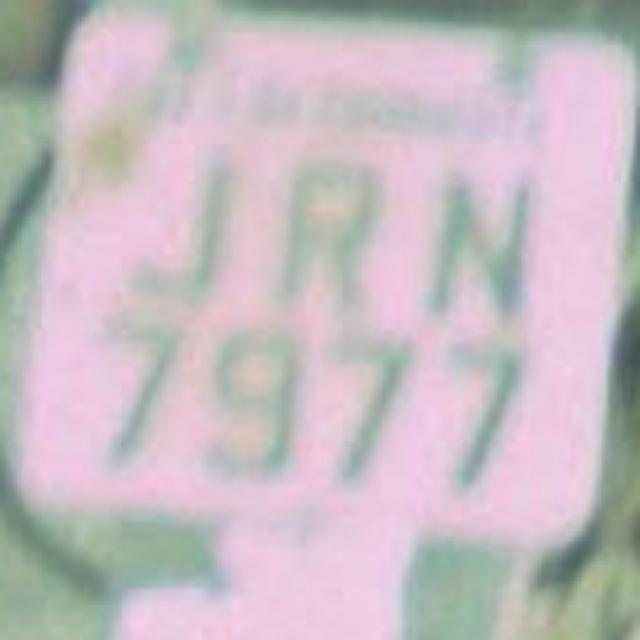3: (116, 484, 323, 640), (252, 480, 412, 635)
7: (64, 311, 204, 504), (420, 304, 548, 504), (308, 316, 428, 509)
8: (184, 305, 324, 500)
9: (184, 308, 328, 504)
J: (105, 140, 240, 320)
N: (400, 135, 532, 320)
R: (249, 132, 396, 328)
